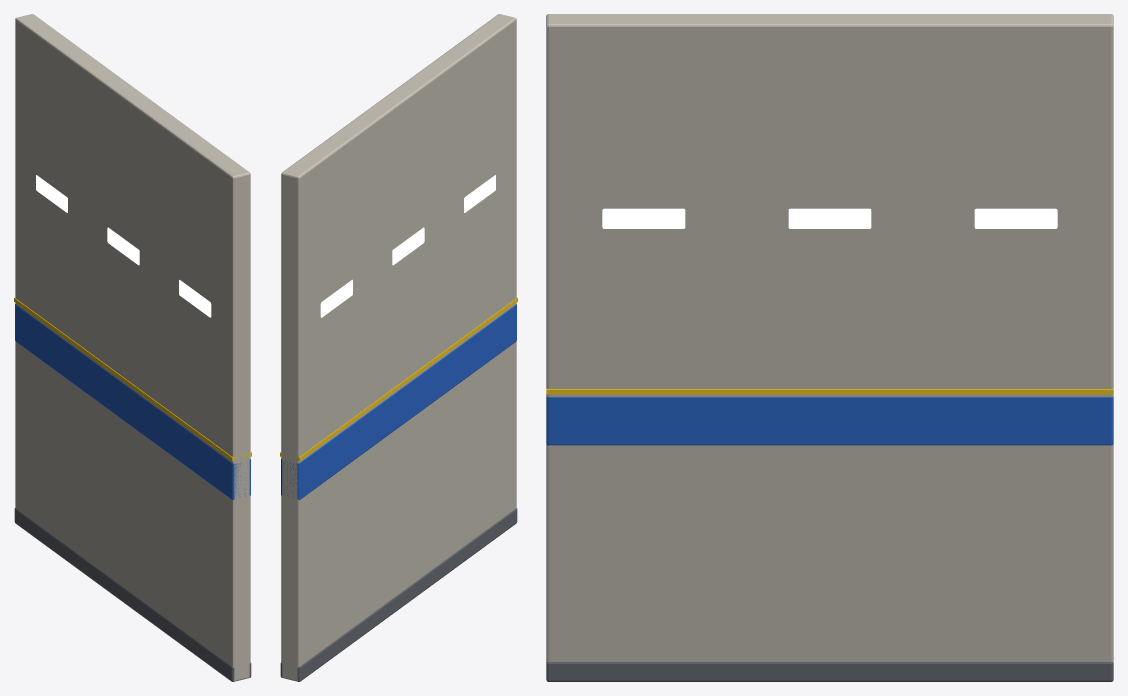
Rendered from store-wall.glb.
3 views of the same model, side by side, from view 1: azimuth 30°, elevation 25°; view 2: azimuth 150°, elevation 25°; view 3: azimuth 270°, elevation 25° (orthographic). The views are drawn at different scales.
Parts seen in each view (by area): view 1: store-wall; view 2: store-wall; view 3: store-wall.
Boxes of the visible parts, bbox=[...] form: store-wall: bbox=[14, 14, 251, 681]; store-wall: bbox=[280, 14, 517, 681]; store-wall: bbox=[546, 14, 1113, 681].
Bounding box in the file's own units: 0.66 × 15.6 × 12.2.
